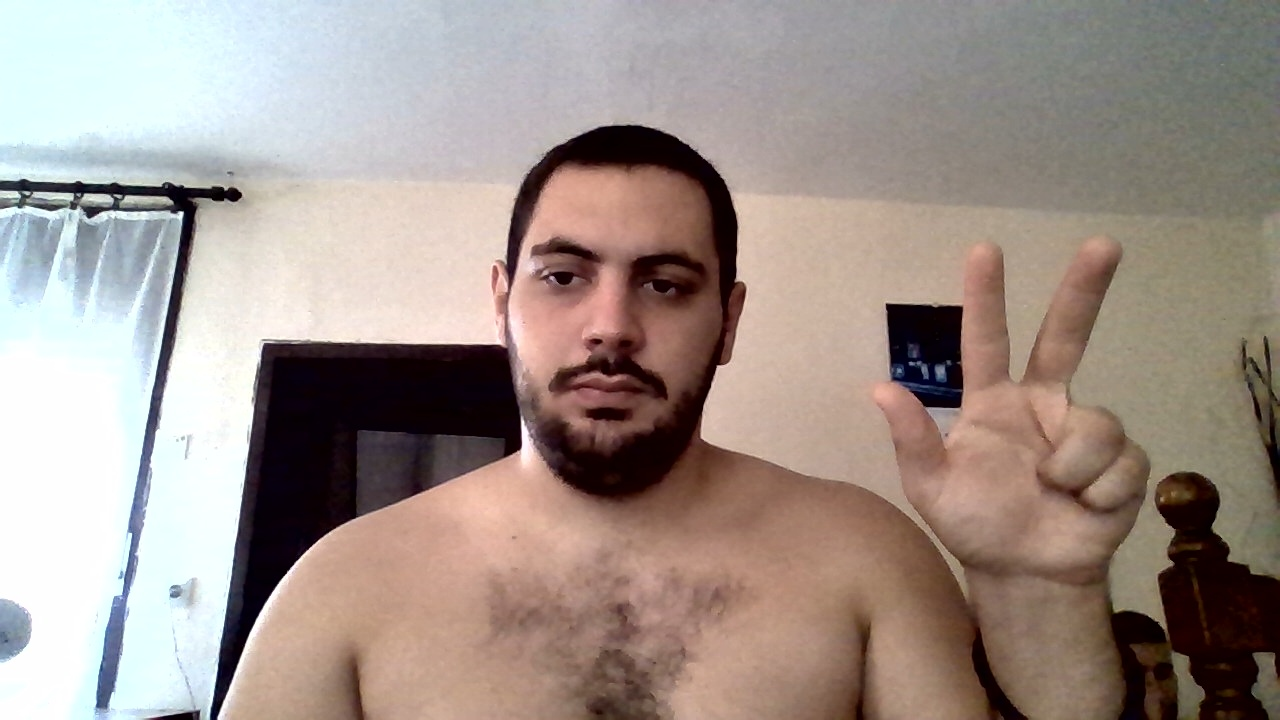serbia: (876, 238, 1143, 569)
